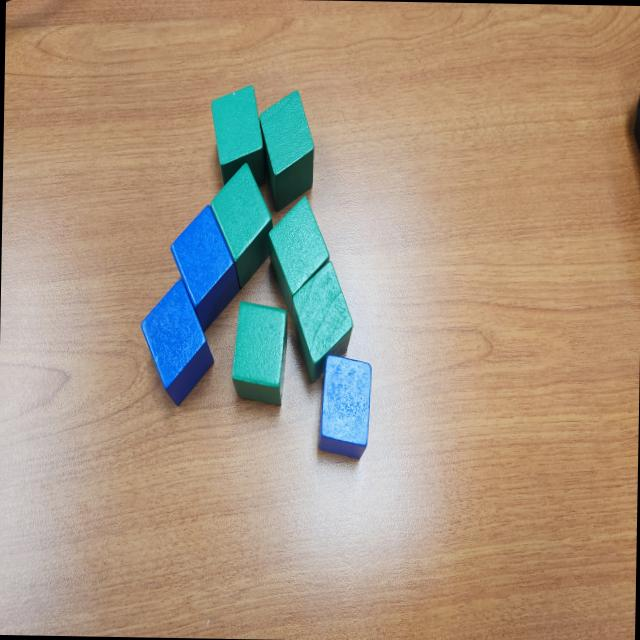blue: (140, 277, 216, 406), (170, 204, 240, 334), (318, 354, 373, 458)
green: (208, 160, 274, 289), (290, 258, 355, 386), (265, 195, 331, 320), (257, 88, 315, 212), (230, 300, 288, 406), (208, 82, 266, 186)
